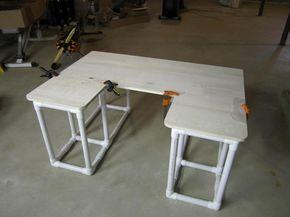PVC: (34, 105, 58, 168), (213, 144, 232, 210), (78, 112, 92, 172), (50, 160, 94, 179), (167, 131, 178, 199), (171, 191, 215, 208), (99, 94, 111, 149), (182, 159, 216, 176), (102, 102, 126, 112), (125, 88, 130, 111)
